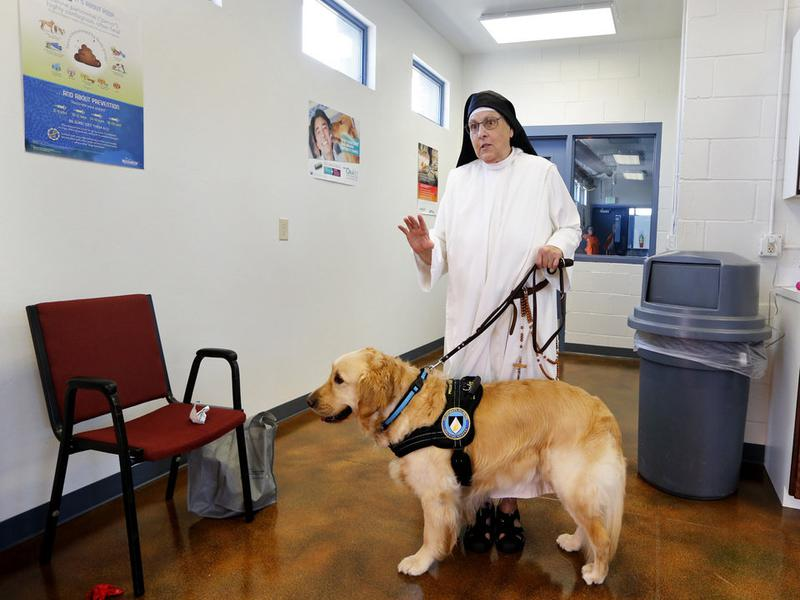dog_stand: (303, 342, 632, 596)
